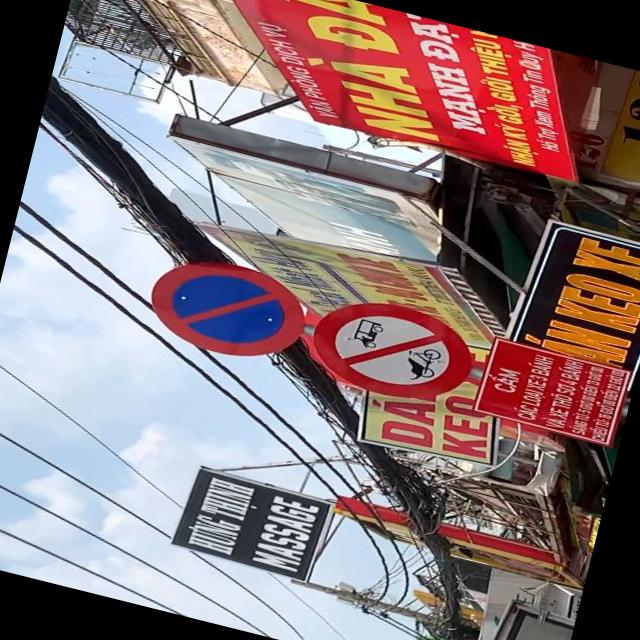P-131a: (140, 248, 310, 368)
